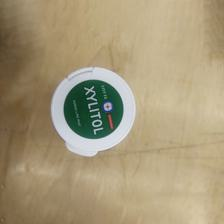Xylitol_green: (47, 67, 136, 158)
